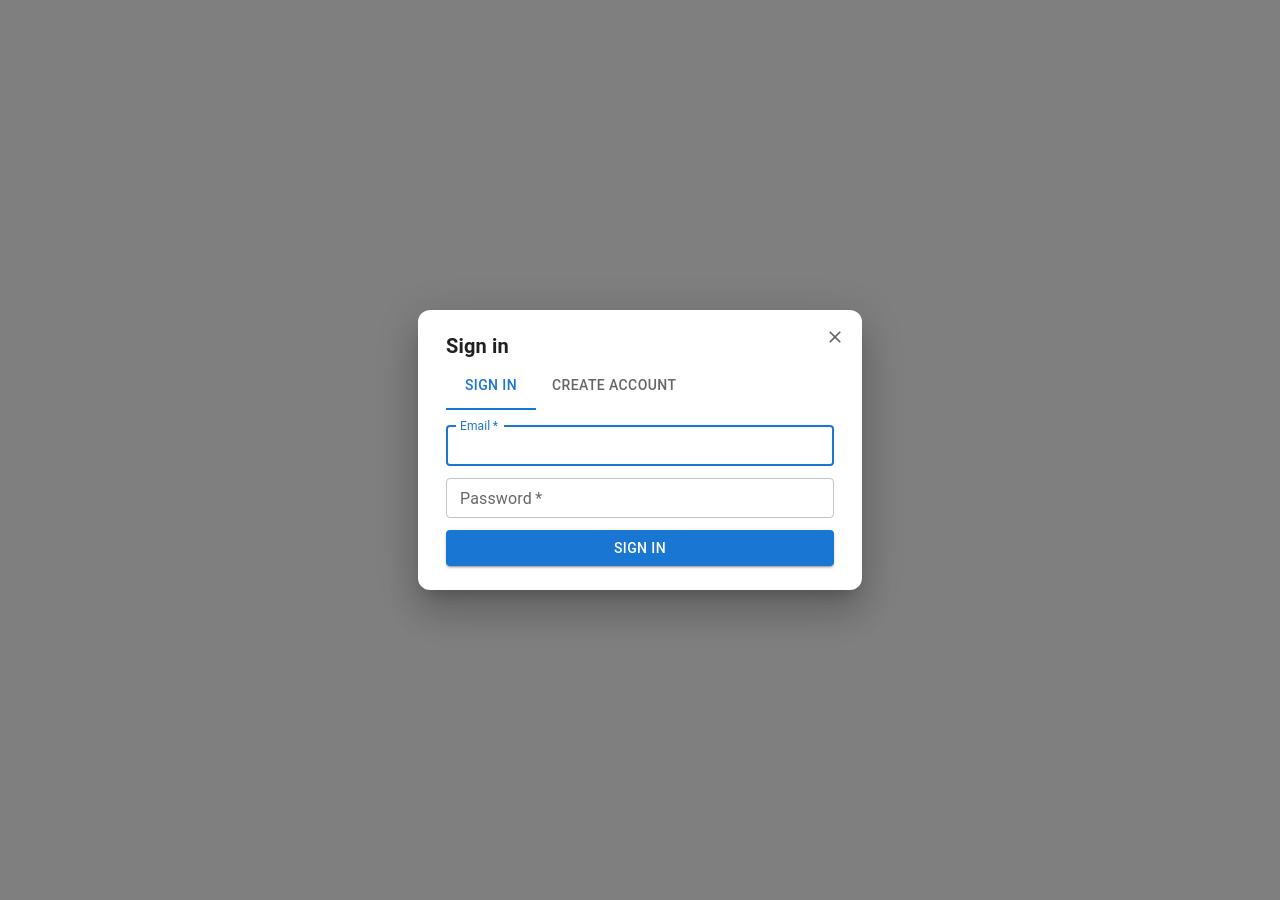
Test: the sign in dialog › shows the reason the account was refused
Click the tab "Create Account" at [614, 386], box [536,362,692,410]
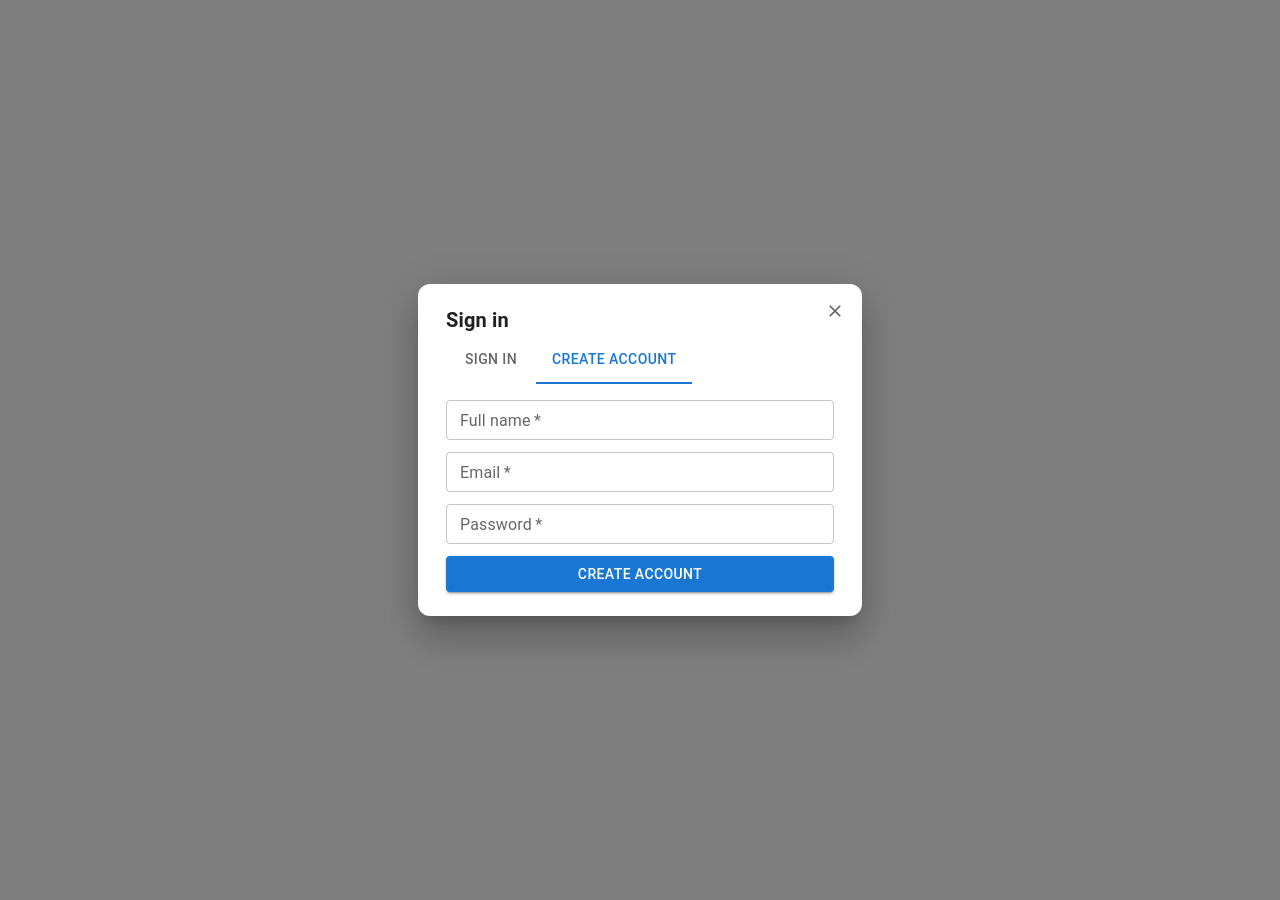
Type "Asha Rao" into the field labelled "Full name *" at [640, 420], box [446,400,834,440]
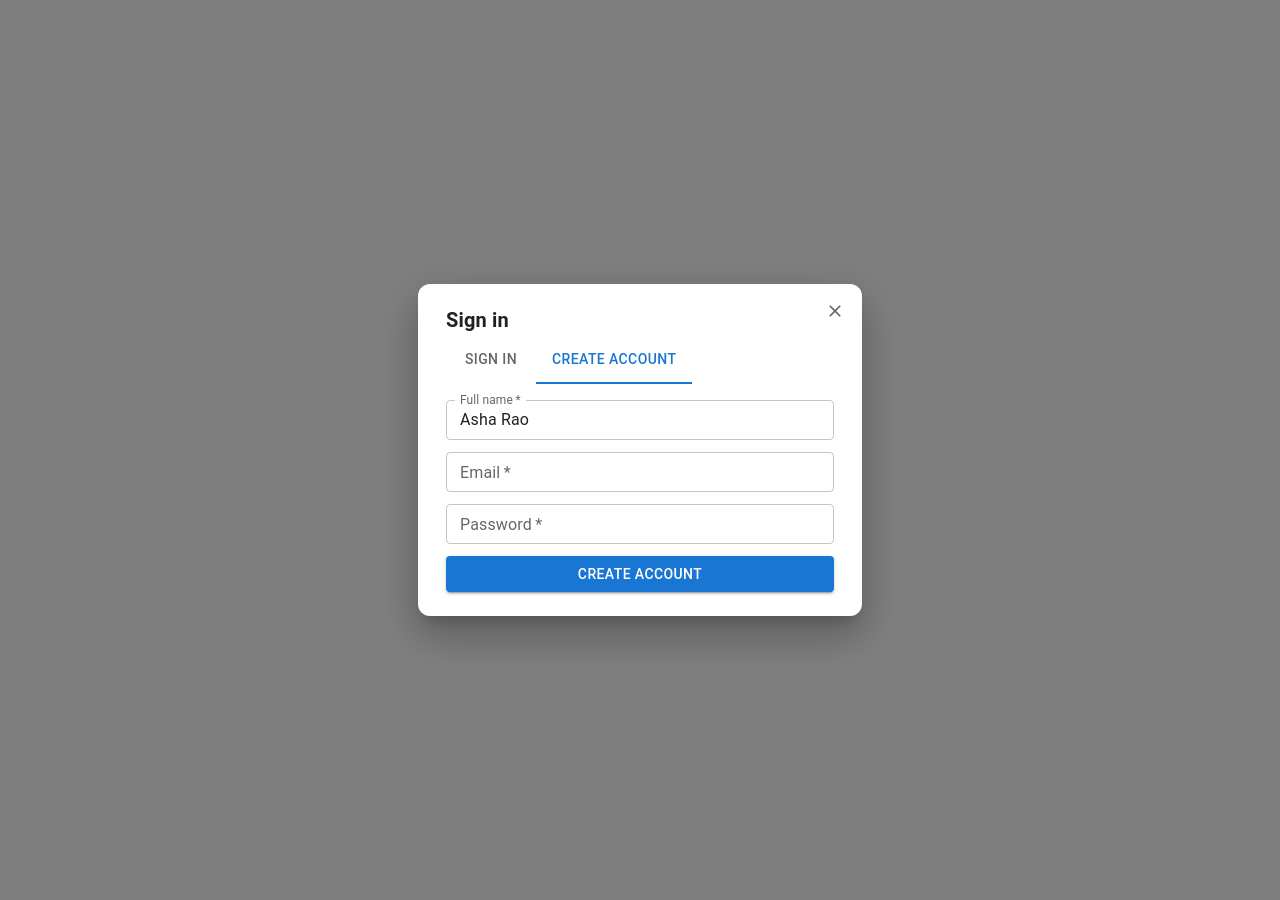
Type "asha@cerulea.test" into the field labelled "Email *" at [640, 472], box [446,452,834,492]
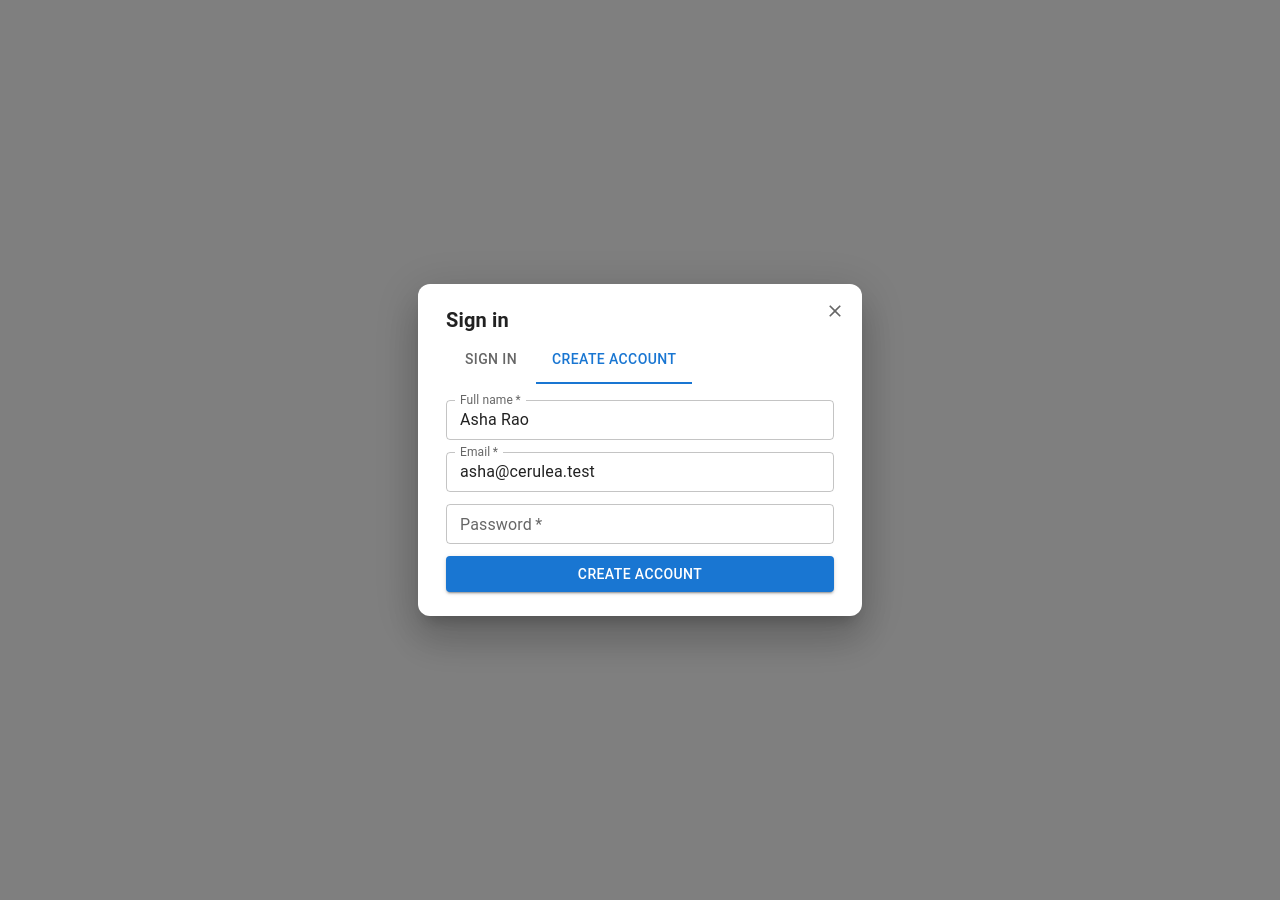
Type "a-long-passphrase" into the password field labelled "Password *" at [640, 524], box [446,504,834,544]
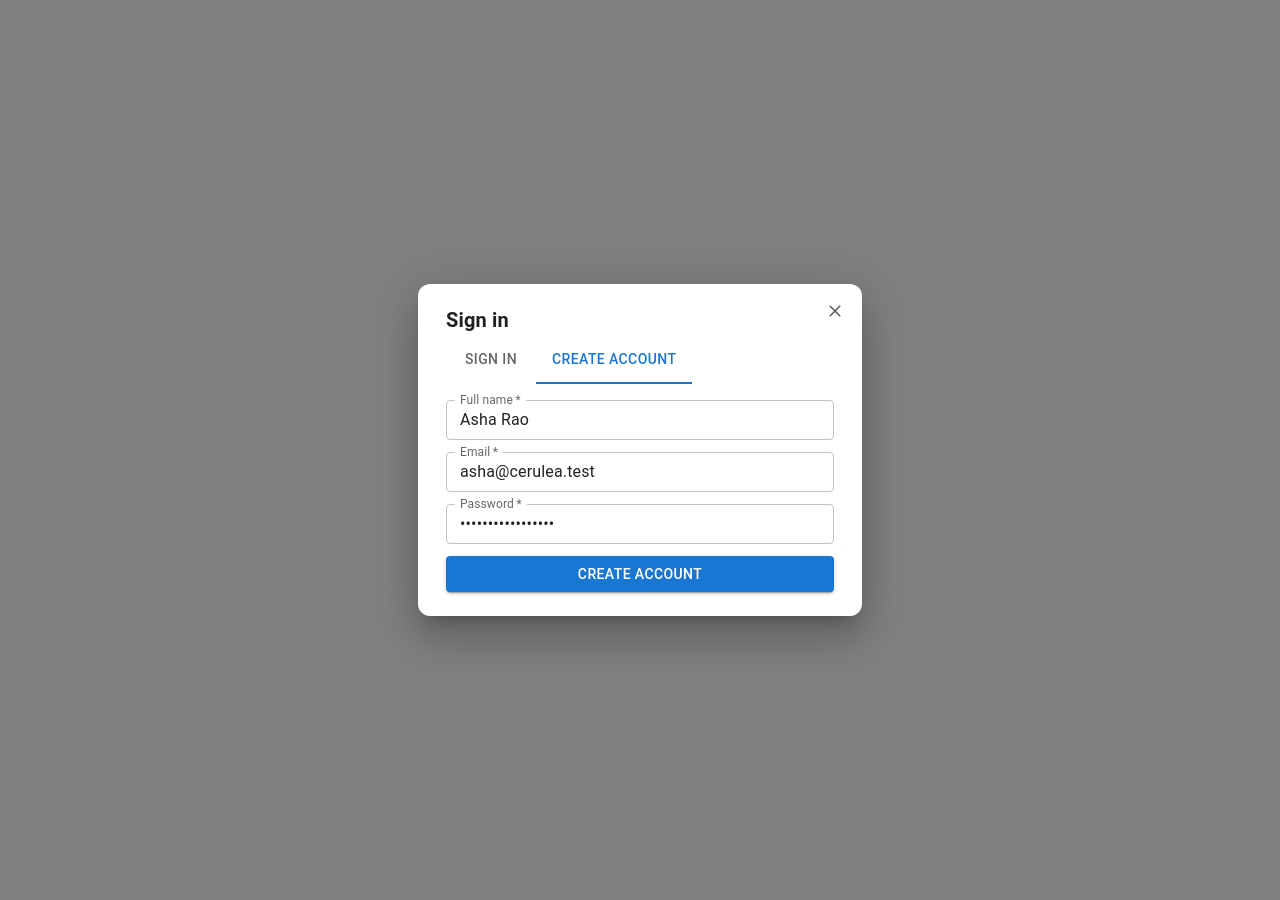
Click the button "Create Account" at [640, 574], box [446,556,834,592]
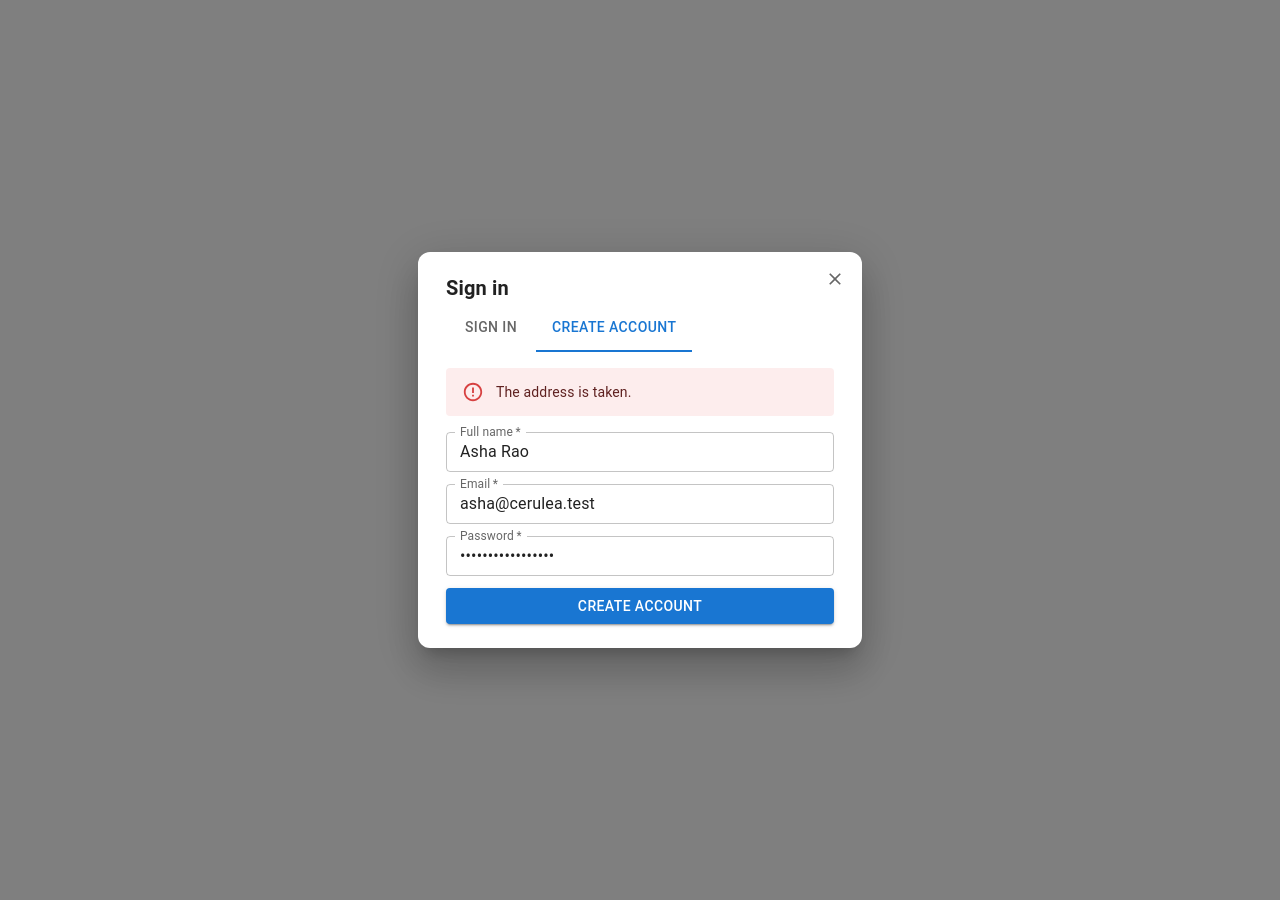
Now the text "The address is taken." is shown, box [496,384,632,400]
